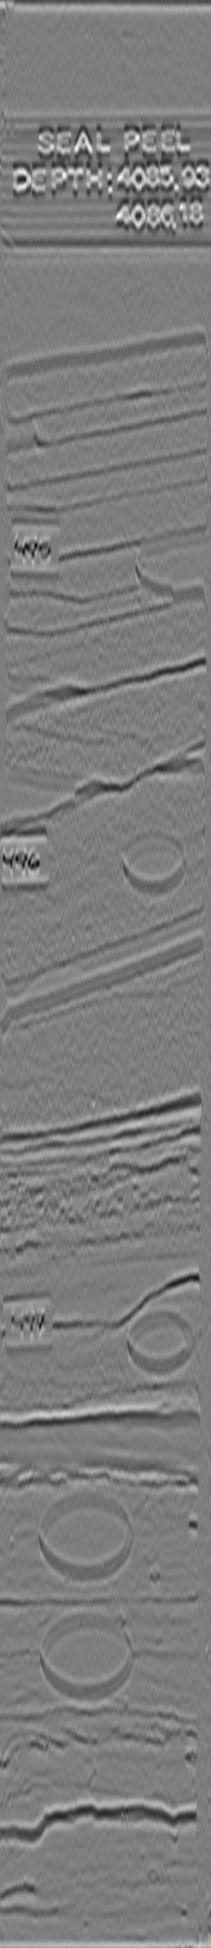hplug: (118, 825, 196, 899), (122, 1307, 199, 1377), (128, 530, 199, 601)
scal: (32, 1605, 141, 1703), (34, 1490, 140, 1586)
vplug: (10, 805, 84, 983)
